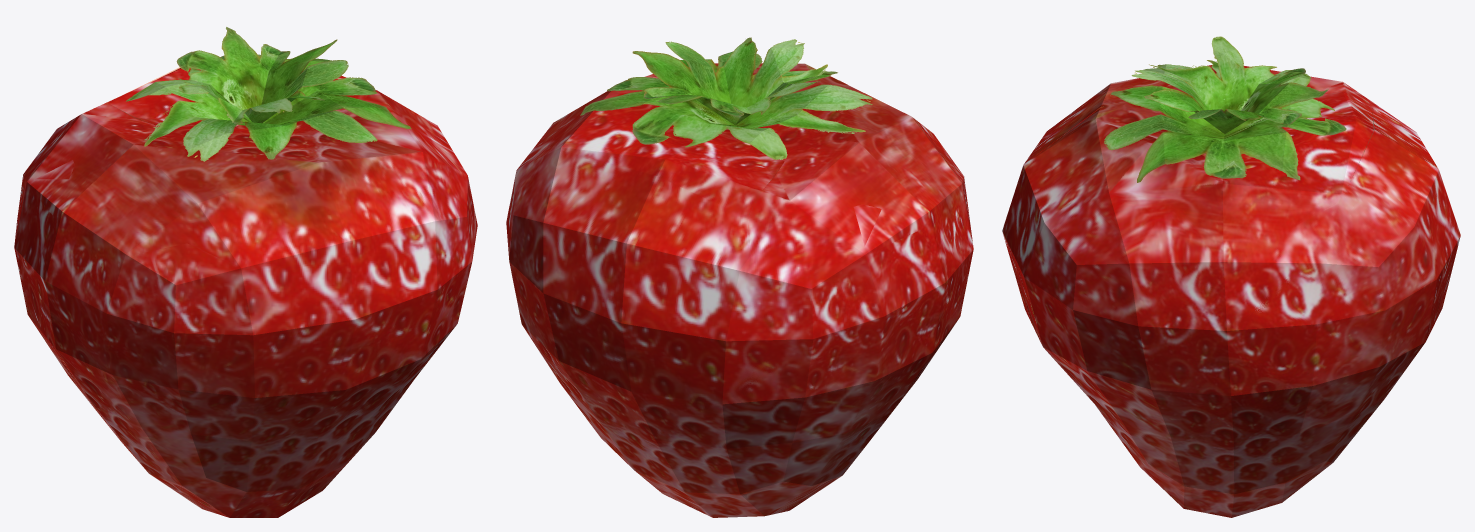
Rendered from strawberry.fbx.
The picture shows the model from 3 angles, left to right: view 1: azimuth 30°, elevation 25°; view 2: azimuth 150°, elevation 25°; view 3: azimuth 270°, elevation 25°; orthographic projection. The views are drawn at different scales.
Visible parts, largest first — view 1: strawberry, strawberry_cell, strawberry_cell.001; view 2: strawberry, strawberry_cell.002, strawberry_cell, strawberry_cell.001; view 3: strawberry, strawberry_cell.001, strawberry_cell.002, strawberry_cell.
Part boxes in pixels (x1=…): strawberry: x1=16, y1=33, x2=472, y2=517; strawberry_cell: x1=14, y1=128, x2=391, y2=517; strawberry_cell.001: x1=109, y1=27, x2=477, y2=431; strawberry: x1=506, y1=51, x2=973, y2=517; strawberry_cell.002: x1=509, y1=150, x2=750, y2=517; strawberry_cell: x1=749, y1=80, x2=973, y2=515; strawberry_cell.001: x1=525, y1=37, x2=865, y2=217; strawberry: x1=1023, y1=60, x2=1460, y2=517; strawberry_cell.001: x1=1010, y1=36, x2=1373, y2=434; strawberry_cell.002: x1=1118, y1=107, x2=1438, y2=508; strawberry_cell: x1=1002, y1=104, x2=1130, y2=453.
Size of the model in its own units: 0.5111 by 0.5476 by 0.5111.
